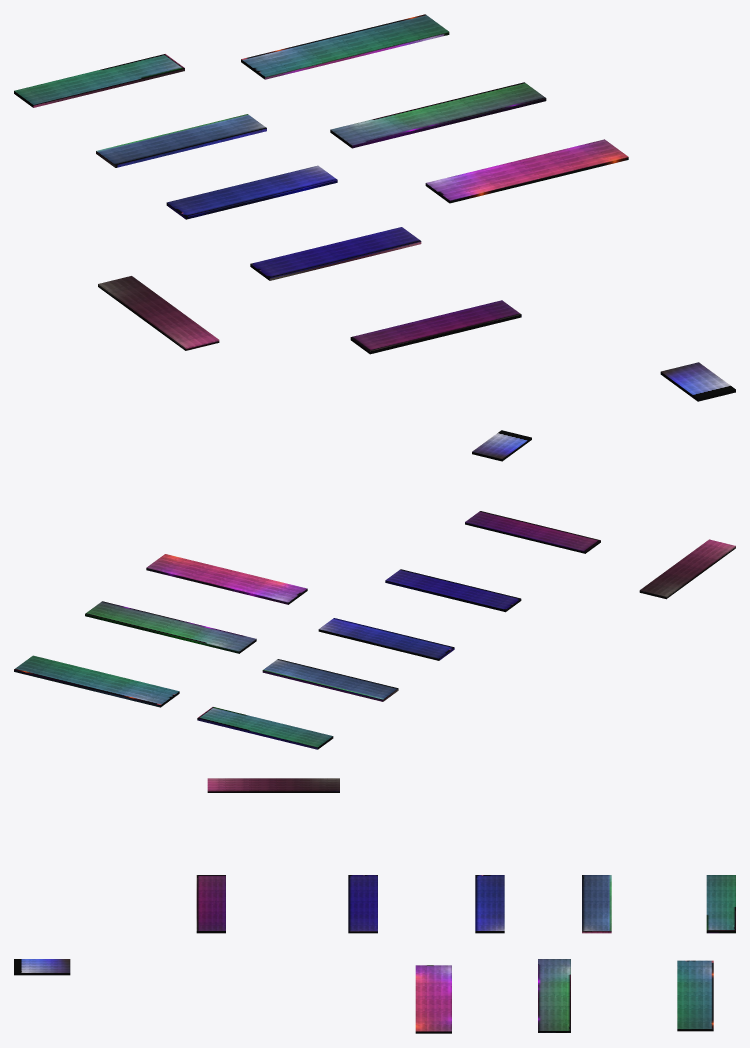
Rendered from Pavements-transformed.glb.
The picture shows the model from 3 angles, top to bottom: view 1: azimuth 30°, elevation 25°; view 2: azimuth 150°, elevation 25°; view 3: azimuth 270°, elevation 25°; orthographic projection. The views are drawn at different scales.
Parts seen in each view (by area): view 1: Cube.551, Cube.553, Cube.552, Cube.546, Cube.276, Cube.277, Cube.547, Cube.548, Cube.433, Cube.006; view 2: Cube.551, Cube.553, Cube.552, Cube.277, Cube.547, Cube.548, Cube.546, Cube.276, Cube.433, Cube.006; view 3: Cube.551, Cube.553, Cube.552, Cube.433, Cube.547, Cube.546, Cube.277, Cube.548, Cube.276, Cube.006.
Part boxes in pixels (left/top/right/bottom): Cube.551: left=241, top=14, right=449, bottom=79; Cube.553: left=425, top=139, right=628, bottom=203; Cube.552: left=330, top=82, right=546, bottom=148; Cube.546: left=166, top=165, right=337, bottom=219; Cube.276: left=350, top=300, right=521, bottom=354; Cube.277: left=250, top=227, right=421, bottom=280; Cube.547: left=96, top=114, right=266, bottom=167; Cube.548: left=14, top=54, right=184, bottom=107; Cube.433: left=98, top=276, right=219, bottom=350; Cube.006: left=660, top=362, right=735, bottom=401; Cube.551: left=14, top=655, right=179, bottom=707; Cube.553: left=146, top=554, right=307, bottom=604; Cube.552: left=85, top=601, right=256, bottom=653; Cube.277: left=385, top=569, right=521, bottom=612; Cube.547: left=262, top=659, right=398, bottom=701; Cube.548: left=197, top=707, right=333, bottom=749; Cube.546: left=318, top=618, right=454, bottom=660; Cube.276: left=465, top=511, right=600, bottom=553; Cube.433: left=639, top=539, right=735, bottom=599; Cube.006: left=472, top=430, right=531, bottom=461; Cube.551: left=677, top=960, right=713, bottom=1031; Cube.553: left=415, top=965, right=451, bottom=1033; Cube.552: left=538, top=959, right=570, bottom=1032; Cube.433: left=207, top=778, right=339, bottom=792; Cube.547: left=582, top=875, right=611, bottom=933; Cube.546: left=475, top=875, right=504, bottom=933; Cube.277: left=348, top=875, right=377, bottom=933; Cube.548: left=706, top=875, right=735, bottom=933; Cube.276: left=196, top=875, right=225, bottom=933; Cube.006: left=14, top=959, right=70, bottom=975.
Bounding box in the file's own units: 2671 × 238 × 3799.
Materials: 1 (1 with a texture image).
